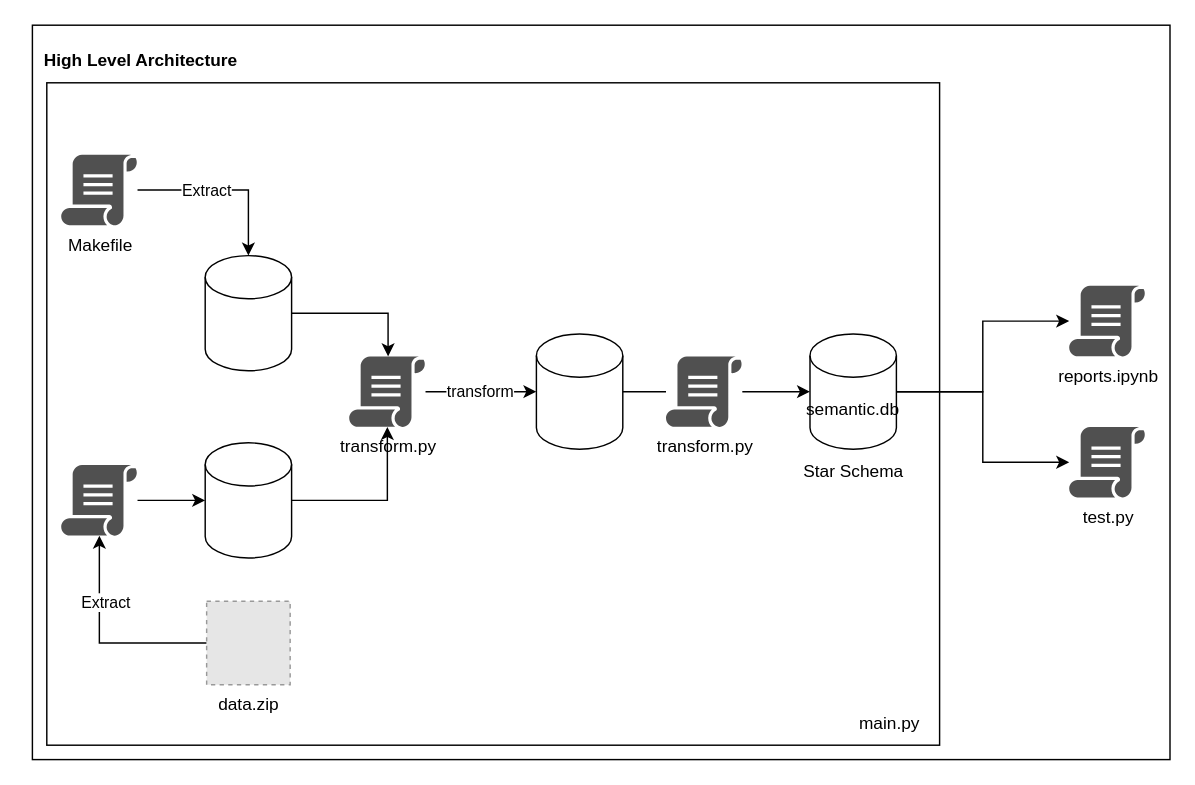
This 1195x785 diagram has some shape labels left out. Grey dashed boxes stand in for pictures. The shapes that lost their labels are listed below. From the top down, each one's centre as x and y in pixels, then its label:
the point at 248,312: TPC-H.db
the point at 579,391: conformed.db
the point at 98,499: extract.py
the point at 248,499: raw.db
